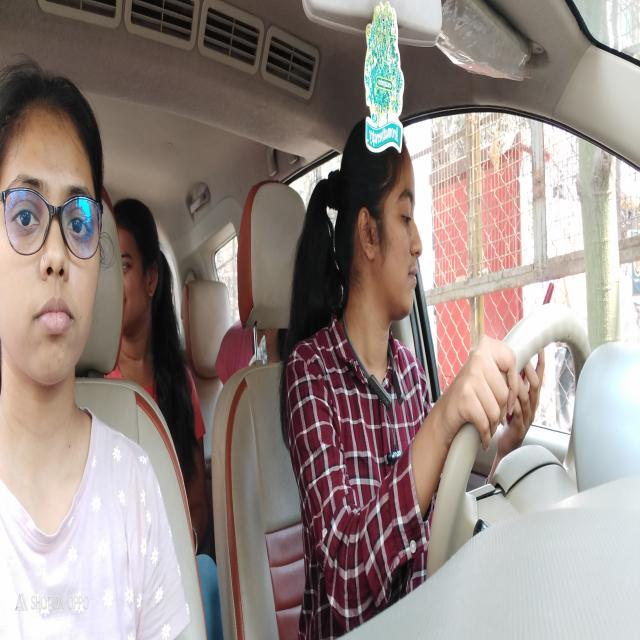mobile: (538, 272, 562, 321)
person: (0, 66, 101, 401), (340, 127, 428, 335), (112, 197, 168, 356)
